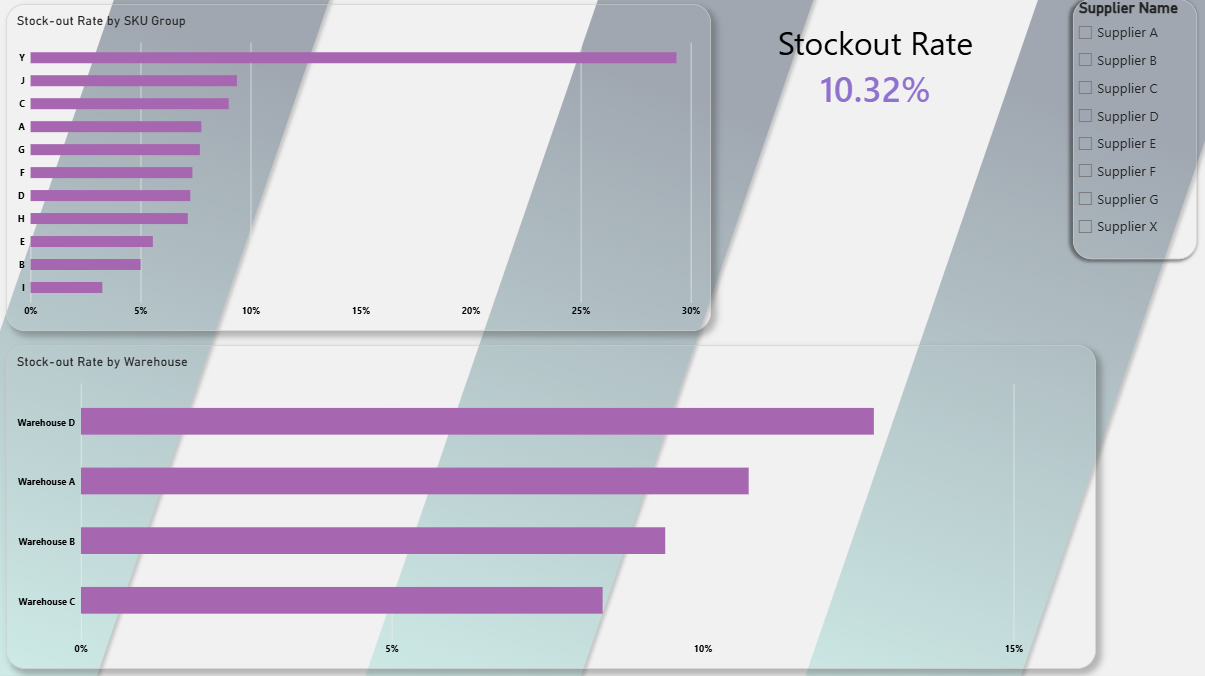

The page's visual inventory and layout, read from the dashboard file:
{"tool":"powerbi","page":{"name":"Inventory","canvas":[1920,1080],"ordinal":3},"visuals":[{"type":"clusteredBarChart","title":"Stock-out Rate by SKU Group","fields":{"Category":["vw_inventory_status.sku_group"],"Y":["root_cause.Stockout Rate"]},"box":[14.3,9.5,1119,519],"z":0},{"type":"cardVisual","fields":{"Data":["root_cause.Stockout Rate"]},"box":[1180,10,430,198.3],"z":1000},{"type":"clusteredBarChart","title":"Stock-out Rate by Warehouse","fields":{"Category":["vw_inventory_status.warehouse_name"],"Y":["root_cause.Stockout Rate"]},"box":[14.3,550.8,1730.2,514.3],"z":2000},{"type":"slicer","fields":{"Values":["vw_inventory_status.supplier_name"]},"box":[1708.3,1.7,196.7,413.3],"z":3000}]}

Visuals, with their boxes in screenshot pixels (x1, y1, x2, y2), scaled from the page's 1920x1080 canvas onto the 1205x676 screenshot:
"Stock-out Rate by SKU Group" clusteredBarChart: BBox(9, 6, 711, 331)
cardVisual - root_cause.Stockout Rate: BBox(741, 6, 1010, 130)
"Stock-out Rate by Warehouse" clusteredBarChart: BBox(9, 345, 1095, 667)
slicer - vw_inventory_status.supplier_name: BBox(1072, 1, 1196, 260)
